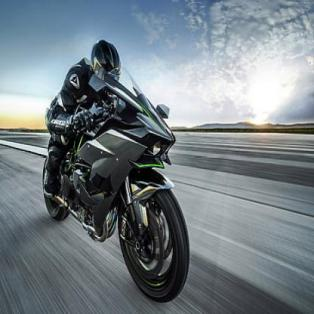Motocicleta: (39, 89, 192, 310)
